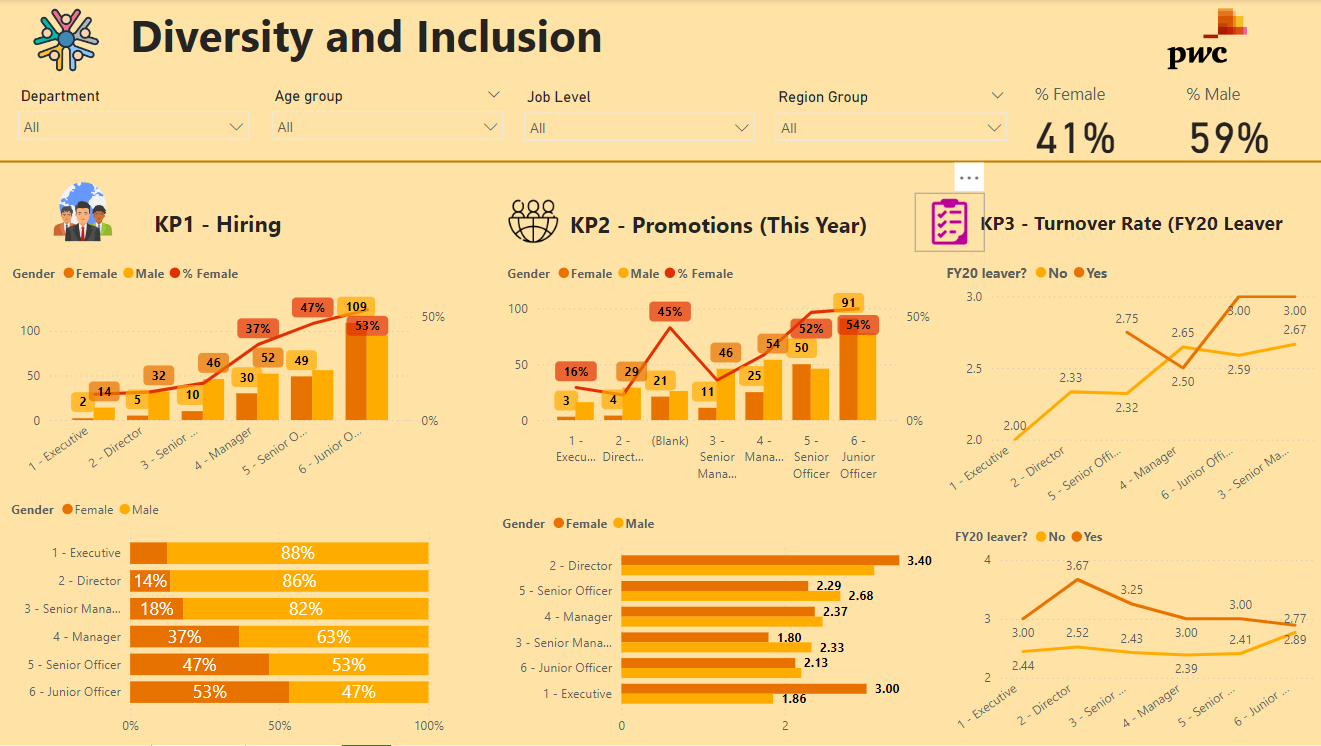

This screenshot's page, from the dashboard's own definition file:
{"tool":"powerbi","page":{"name":"Page 1","canvas":[1280,720],"ordinal":0},"visuals":[{"type":"textbox","box":[123.7,0,516.3,79.6],"z":0},{"type":"slicer","fields":{"Values":["Pharma Group AG.Last Department in FY20"]},"box":[11,79.5,243.3,75.8],"z":1000},{"type":"slicer","fields":{"Values":["Pharma Group AG.Age group"]},"box":[255.5,79.6,243.9,77],"z":2000},{"type":"slicer","fields":{"Values":["Pharma Group AG.Job Level after FY20 promotions"]},"box":[499.4,80.9,242.6,75.7],"z":3000},{"type":"slicer","fields":{"Values":["Pharma Group AG.Broad region group: nationality 1"]},"box":[742.1,80.9,243.9,75.7],"z":4000},{"type":"hundredPercentStackedBarChart","fields":{"Category":["Pharma Group AG.Job Level after FY20 promotions"],"Y":["CountNonNull(Pharma Group AG.Employee ID)"],"Series":["Pharma Group AG.Gender"]},"box":[9.8,473.2,428,247],"z":5000},{"type":"cardVisual","fields":{"Data":["Pharma.% Female","Pharma.% Male"]},"box":[985.6,62.4,294.7,92.9],"z":6000},{"type":"lineClusteredColumnComboChart","fields":{"Category":["Pharma.Job Level after FY20 promotions"],"Y":["CountNonNull(Pharma.Employee ID)"],"Y2":["Pharma.% Female"],"Series":["Pharma.Gender"]},"box":[11,244.6,428,228.7],"z":7000},{"type":"lineClusteredColumnComboChart","fields":{"Y":["CountNonNull(Pharma.Employee ID)"],"Y2":["Pharma.% Female"],"Series":["Pharma.Gender"],"Category":["Pharma.Job Level after FY21 promotions"]},"box":[489.1,244.6,418.2,228.7],"z":8000},{"type":"clusteredBarChart","fields":{"Series":["Pharma.Gender"],"Category":["Pharma.Job Level after FY20 promotions"],"Y":["Avg(Pharma.Time in Job Level @01.07.2020)"]},"box":[484,486.6,428.8,233.7],"z":9000},{"type":"lineChart","fields":{"Category":["Pharma.Job Level after FY20 promotions"],"Series":["Pharma.FY20 leaver?"],"Y":["Avg(Pharma.FY19 Performance Rating)"]},"box":[911.5,243.9,368.5,255.5],"z":10000},{"type":"lineChart","fields":{"Category":["Pharma.Job Level after FY20 promotions"],"Series":["Pharma.FY20 leaver?"],"Y":["Avg(Pharma.FY19 Performance Rating)"]},"box":[920.5,499.4,359.5,220.8],"z":11000},{"type":"shape","box":[0,146.4,1280,21.8],"z":12000},{"type":"textbox","box":[123.1,196.6,182.2,45.8],"z":13000},{"type":"textbox","box":[548.9,197.9,314.9,45.8],"z":14000},{"type":"textbox","box":[944.9,197.7,326.1,46.2],"z":15000},{"type":"image","box":[1100.3,0,139.9,79.6],"z":16000},{"type":"image","box":[487.9,186.2,61.6,57.8],"z":17000},{"type":"image","box":[11.6,0,111.7,79.6],"z":18000},{"type":"image","box":[887.1,187.4,66.8,56.5],"z":19000},{"type":"image","box":[44.9,168.2,78.3,75.7],"z":20000}]}

Visuals, with their boxes in screenshot pixels (x1, y1, x2, y2), scaled from the page's 1280x720 canvas onto the 1321x746 screenshot:
textbox: box=[128, 0, 660, 82]
slicer - Pharma Group AG.Last Department in FY20: box=[11, 82, 262, 161]
slicer - Pharma Group AG.Age group: box=[264, 82, 515, 162]
slicer - Pharma Group AG.Job Level after FY20 promotions: box=[515, 84, 766, 162]
slicer - Pharma Group AG.Broad region group: nationality 1: box=[766, 84, 1018, 162]
hundredPercentStackedBarChart - Pharma Group AG.Job Level after FY20 promotions x CountNonNull(Pharma Group AG.Employee ID): box=[10, 490, 452, 745]
cardVisual - Pharma.% Female x Pharma.% Male: box=[1017, 65, 1320, 161]
lineClusteredColumnComboChart - Pharma.Job Level after FY20 promotions x CountNonNull(Pharma.Employee ID): box=[11, 253, 453, 490]
lineClusteredColumnComboChart - CountNonNull(Pharma.Employee ID) x Pharma.% Female: box=[505, 253, 936, 490]
clusteredBarChart - Pharma.Gender x Pharma.Job Level after FY20 promotions: box=[500, 504, 942, 745]
lineChart - Pharma.Job Level after FY20 promotions x Pharma.FY20 leaver?: box=[941, 253, 1320, 517]
lineChart - Pharma.Job Level after FY20 promotions x Pharma.FY20 leaver?: box=[950, 517, 1320, 745]
shape: box=[0, 152, 1320, 174]
textbox: box=[127, 204, 315, 251]
textbox: box=[566, 205, 891, 253]
textbox: box=[975, 205, 1312, 253]
image: box=[1136, 0, 1280, 82]
image: box=[504, 193, 567, 253]
image: box=[12, 0, 127, 82]
image: box=[916, 194, 984, 253]
image: box=[46, 174, 127, 253]
